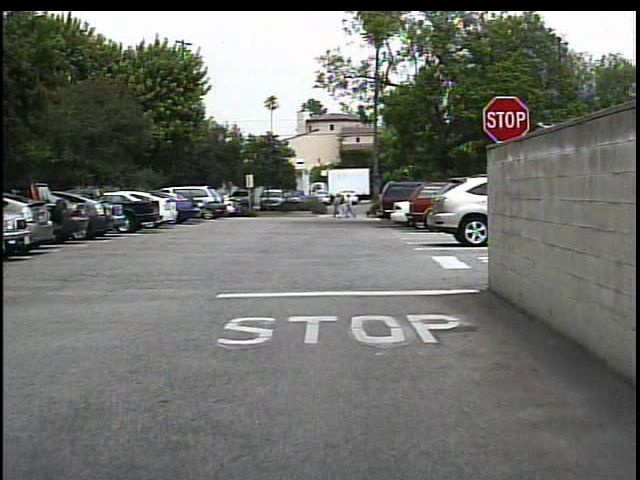person: (344, 195, 358, 222), (329, 193, 343, 219)
